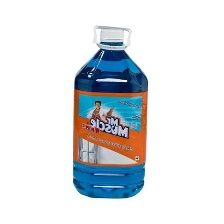cleaning_solution: (69, 21, 150, 202)
